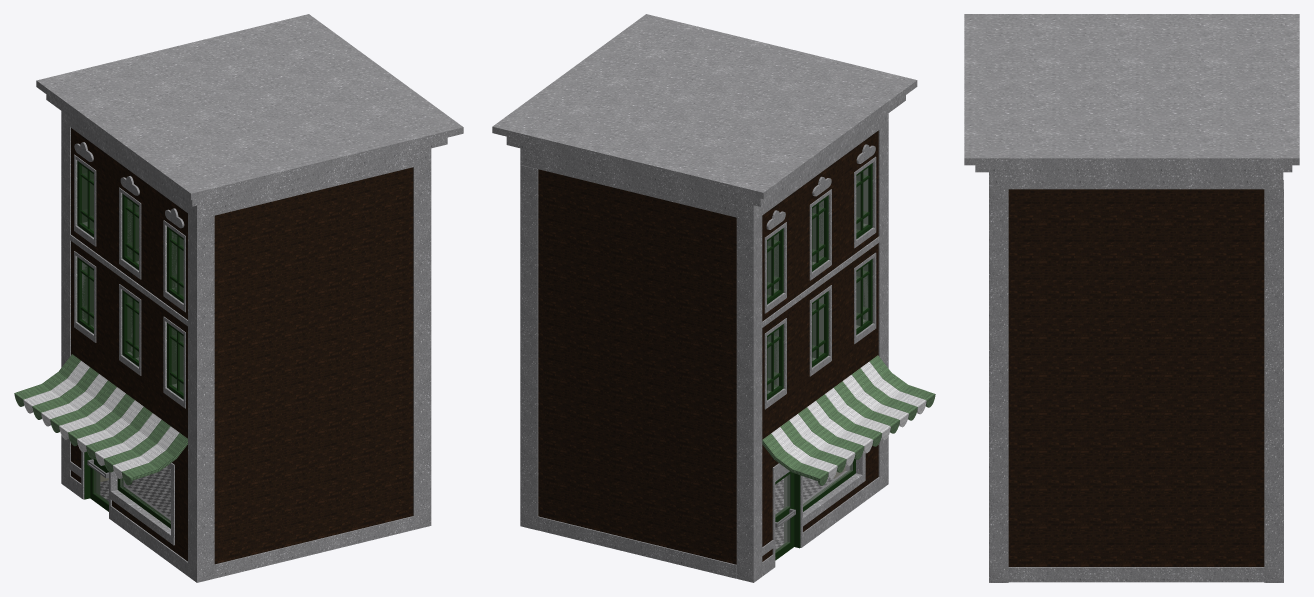
File: ep5t-tiem-banh-mat-tien.glb
3 renders of one model, left to right at view 1: azimuth 30°, elevation 25°; view 2: azimuth 150°, elevation 25°; view 3: azimuth 270°, elevation 25°, orthographic. The views are drawn at different scales.
Parts seen in each view (by area): view 1: ep5t-tiem-banh-mat-tien; view 2: ep5t-tiem-banh-mat-tien; view 3: ep5t-tiem-banh-mat-tien.
Part boxes in pixels (left/top/right/bottom): ep5t-tiem-banh-mat-tien: left=14, top=14, right=463, bottom=582; ep5t-tiem-banh-mat-tien: left=492, top=14, right=935, bottom=582; ep5t-tiem-banh-mat-tien: left=964, top=14, right=1299, bottom=582.
Size of the model in its own units: 37.35 by 45.99 by 32.09.
Materials: 15 (7 with a texture image).
